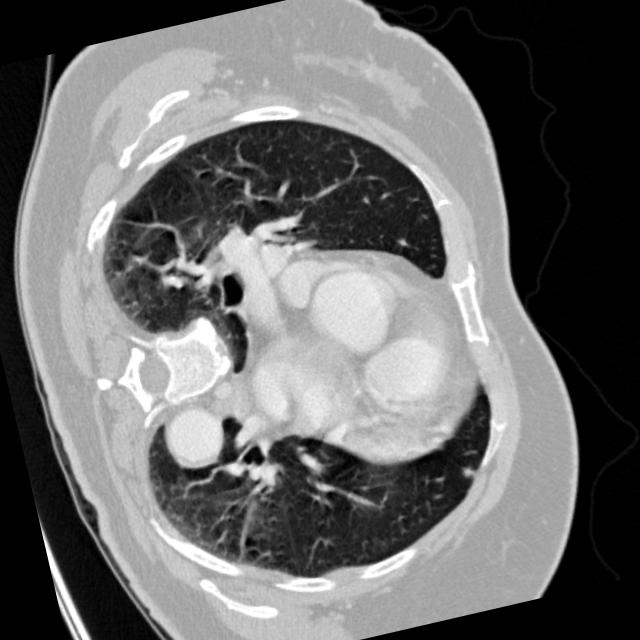nodule: (452, 456, 482, 486)
